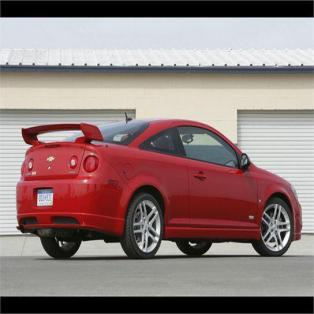Auto: (13, 113, 304, 263)
